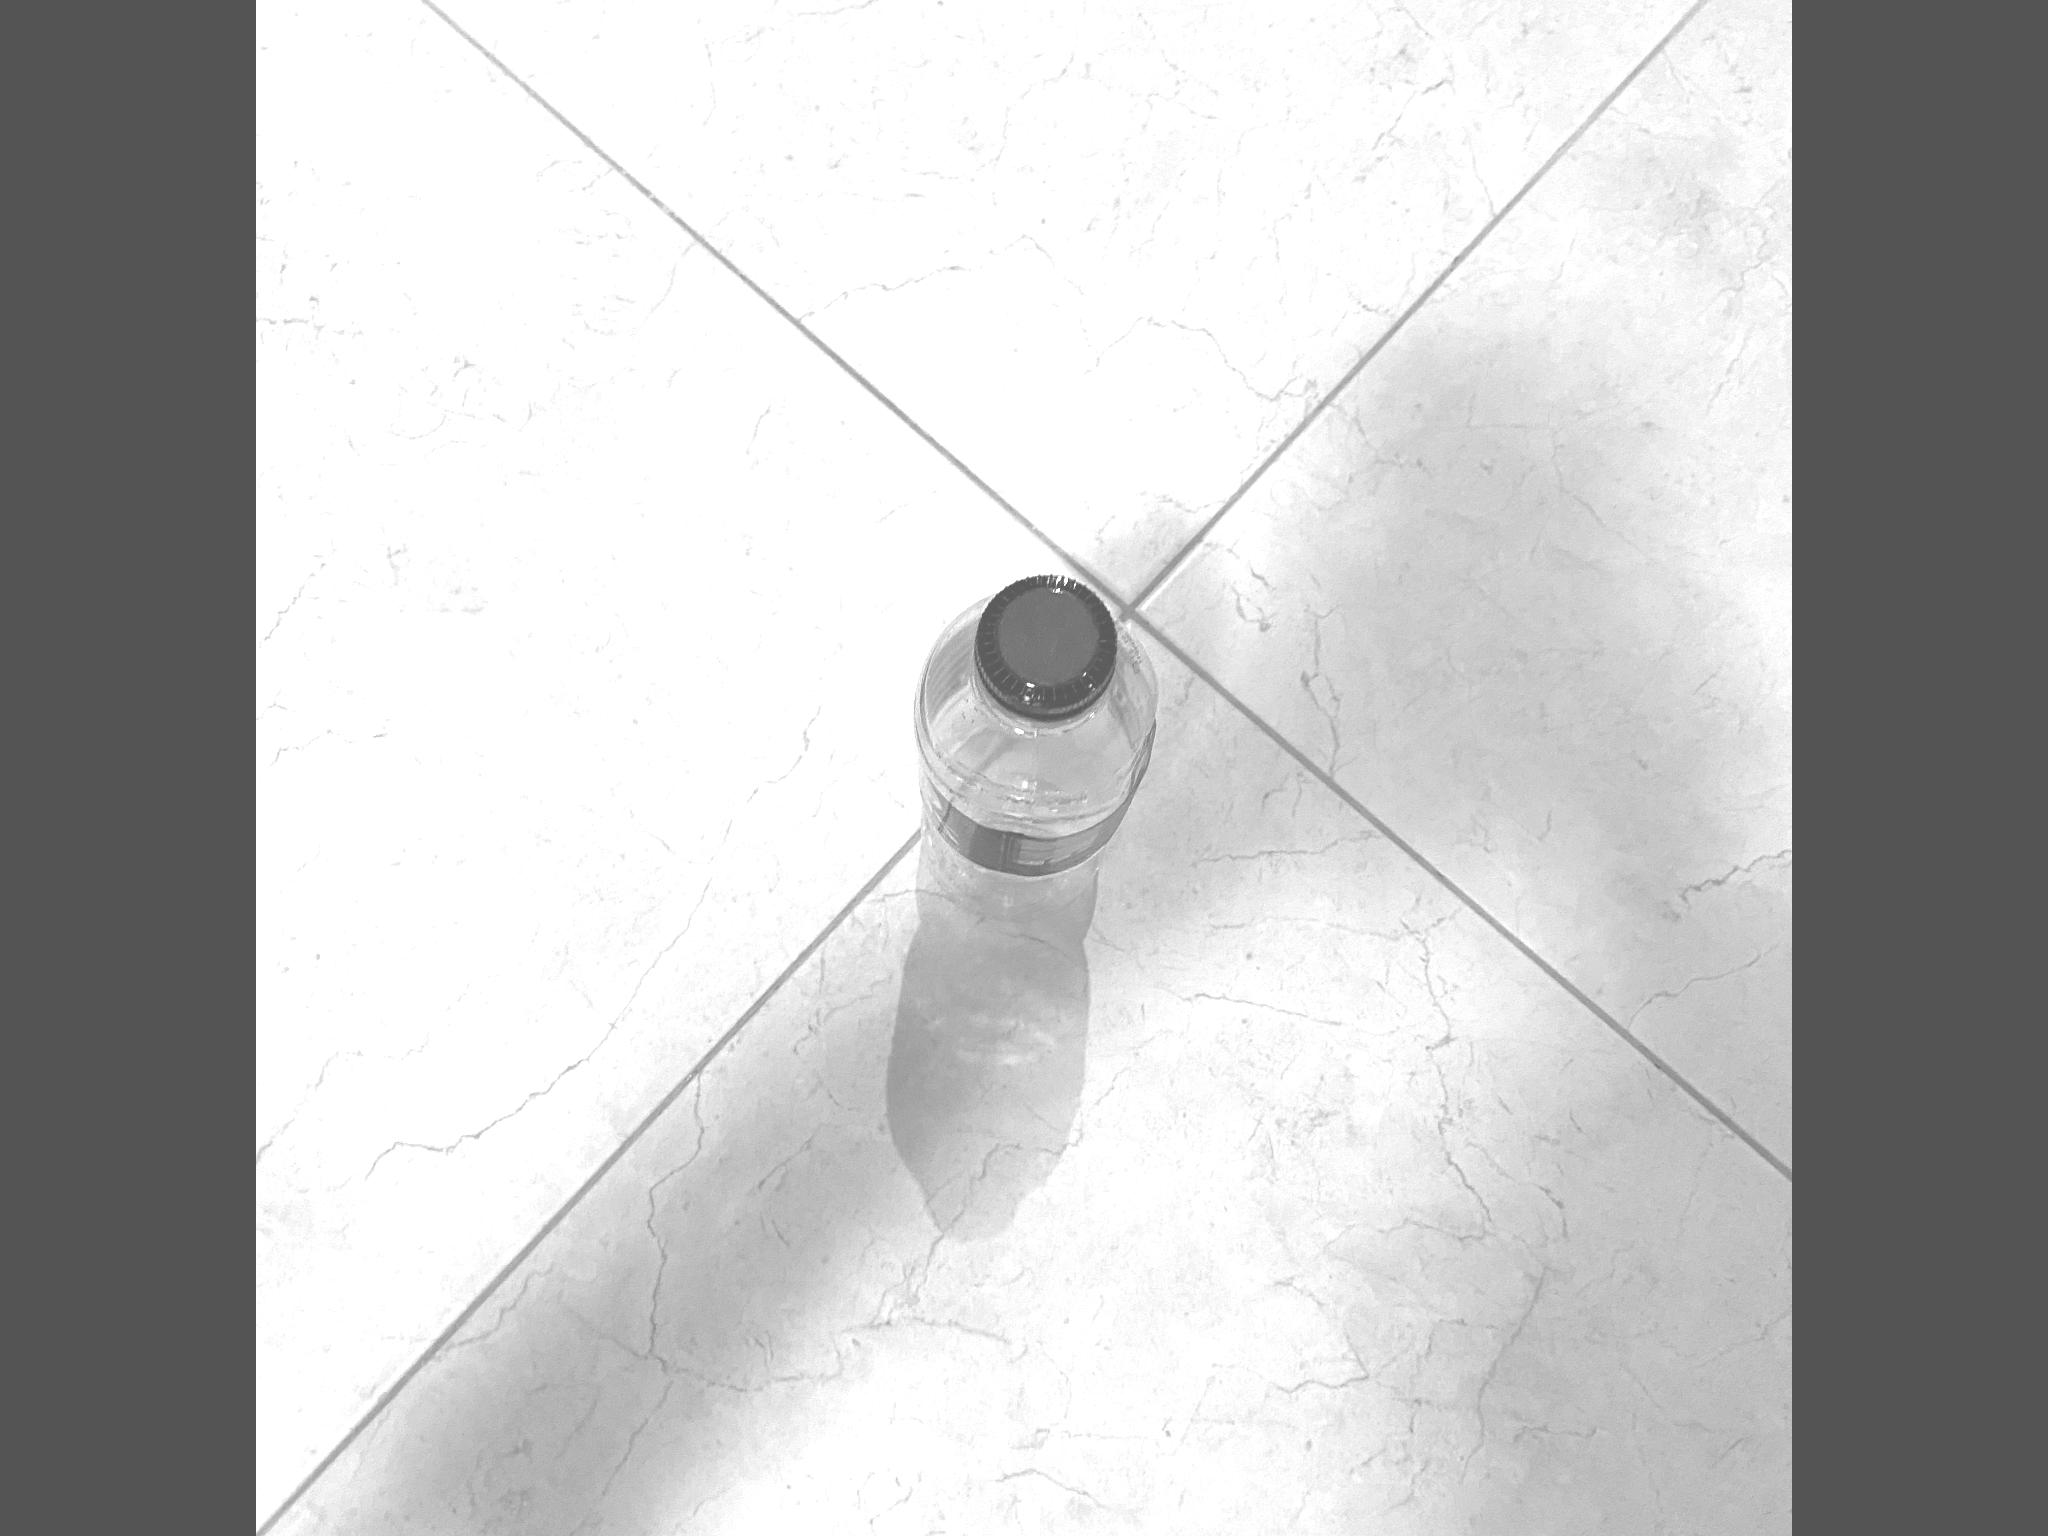bottle: (906, 568, 1176, 876)
